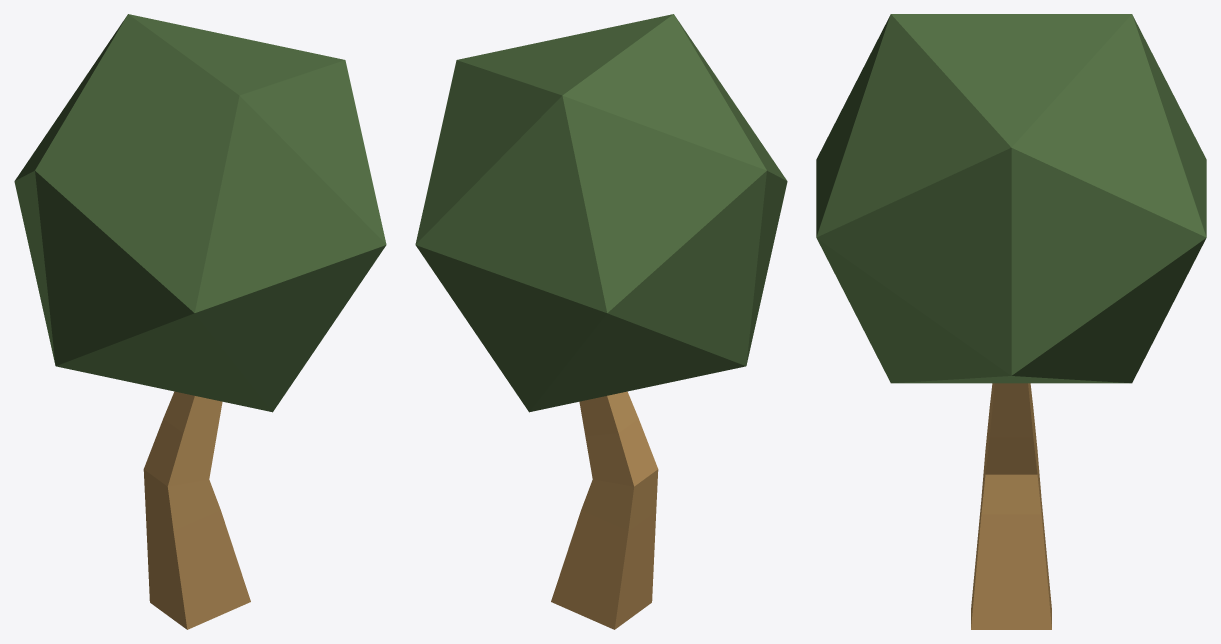
The model's file is tree_round_5.fbx.
The picture shows the model from 3 angles, left to right: view 1: azimuth 30°, elevation 25°; view 2: azimuth 150°, elevation 25°; view 3: azimuth 270°, elevation 25°; orthographic projection. The views are drawn at different scales.
Parts seen in each view (by area): view 1: Icosphere.003, Cube.001; view 2: Icosphere.003, Cube.001; view 3: Icosphere.003, Cube.001.
Boxes of the visible parts, left/top/right/bottom form: Icosphere.003: left=14, top=14, right=386, bottom=412; Cube.001: left=143, top=391, right=250, bottom=629; Icosphere.003: left=415, top=14, right=787, bottom=412; Cube.001: left=551, top=391, right=658, bottom=629; Icosphere.003: left=816, top=14, right=1206, bottom=383; Cube.001: left=971, top=383, right=1051, bottom=629.
Size of the model in its own units: 180 by 290 by 170.
